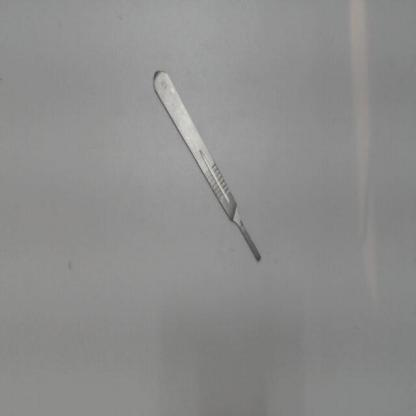No.4 BP Handle: (142, 57, 270, 272)
